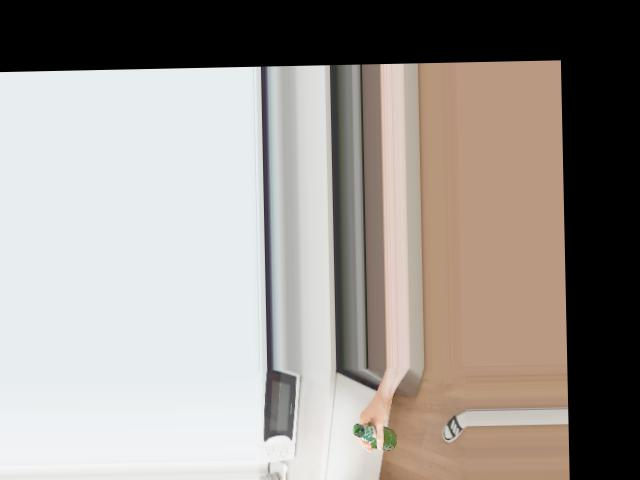beer: (353, 422, 397, 450)
